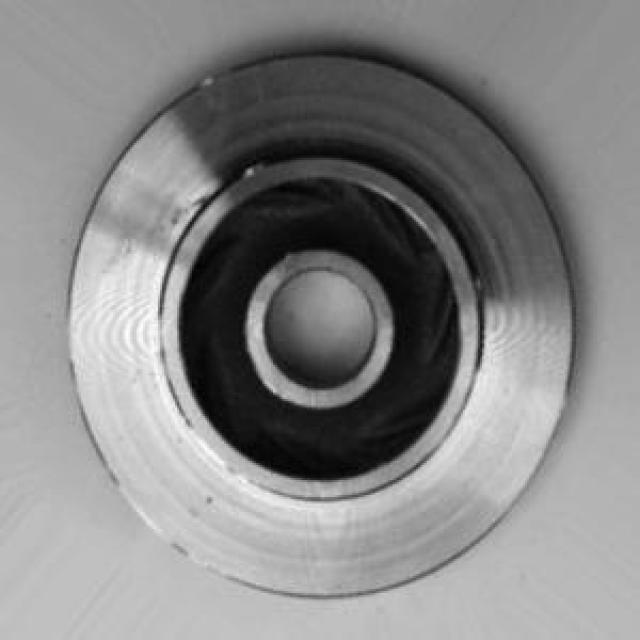Defect: (235, 159, 273, 181)
